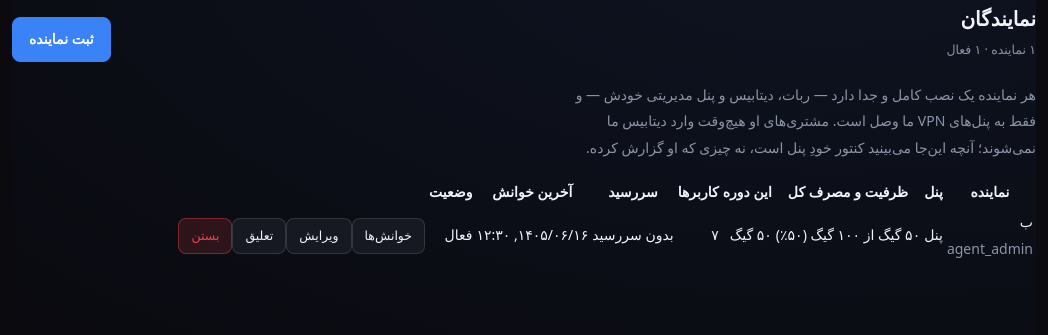
the status buttons › says a refused transition in Persian
Click the button with aria-label "تعلیق ب": (259, 236) [232,218,286,254]
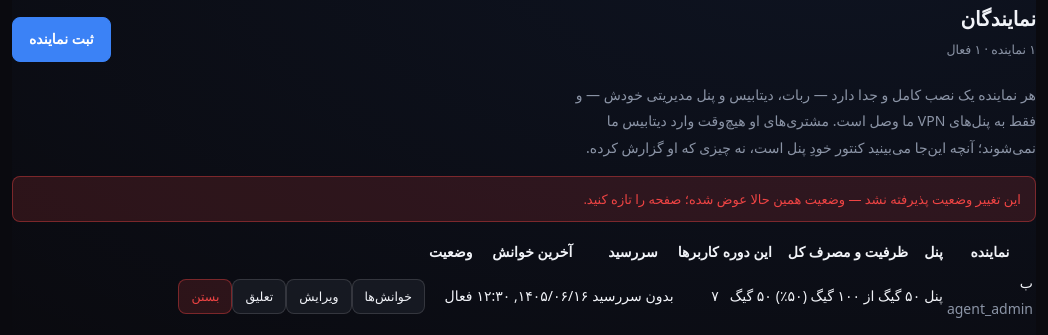
Now the text "این تغییر وضعیت پذیرفته نشد — وضعیت همین حالا عوض شده؛ صفحه را تازه کنید." is shown, box [12,176,1036,222]
